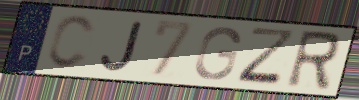7: (151, 18, 197, 80)
C: (45, 13, 98, 71)
G: (192, 26, 243, 82)
J: (98, 19, 147, 74)
R: (282, 29, 343, 93)
Z: (235, 25, 300, 89)
